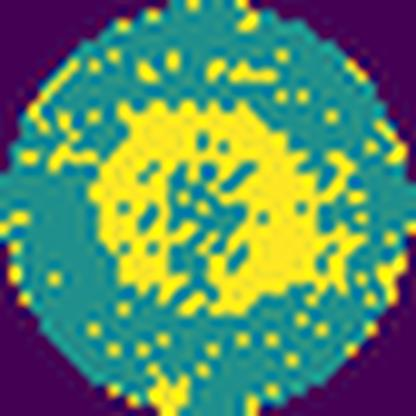Donut: (82, 95, 364, 315)
